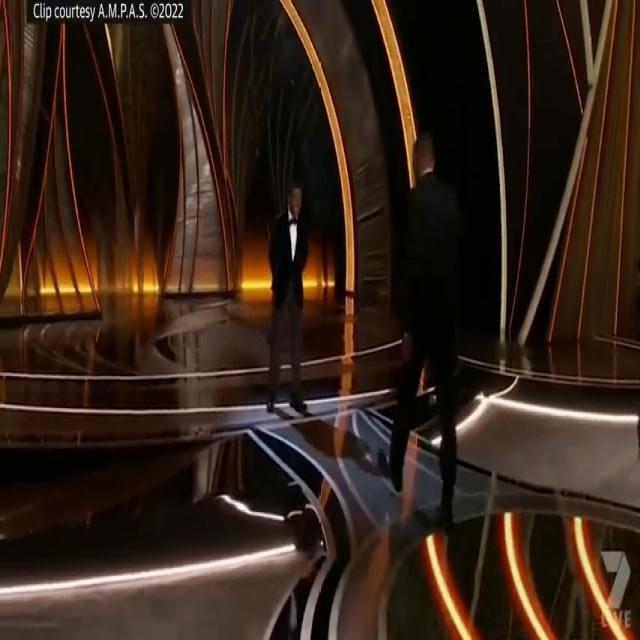non-fight: (248, 117, 491, 539)
